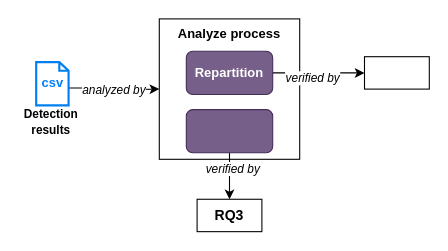
Image size: 448x251. Some labels were removed from this diagram. Here are the shapes that lost their labels. From the top down, the box of each, then its label:
(363, 56, 429, 89): RQ2
(185, 109, 273, 153): Correlation matrix
